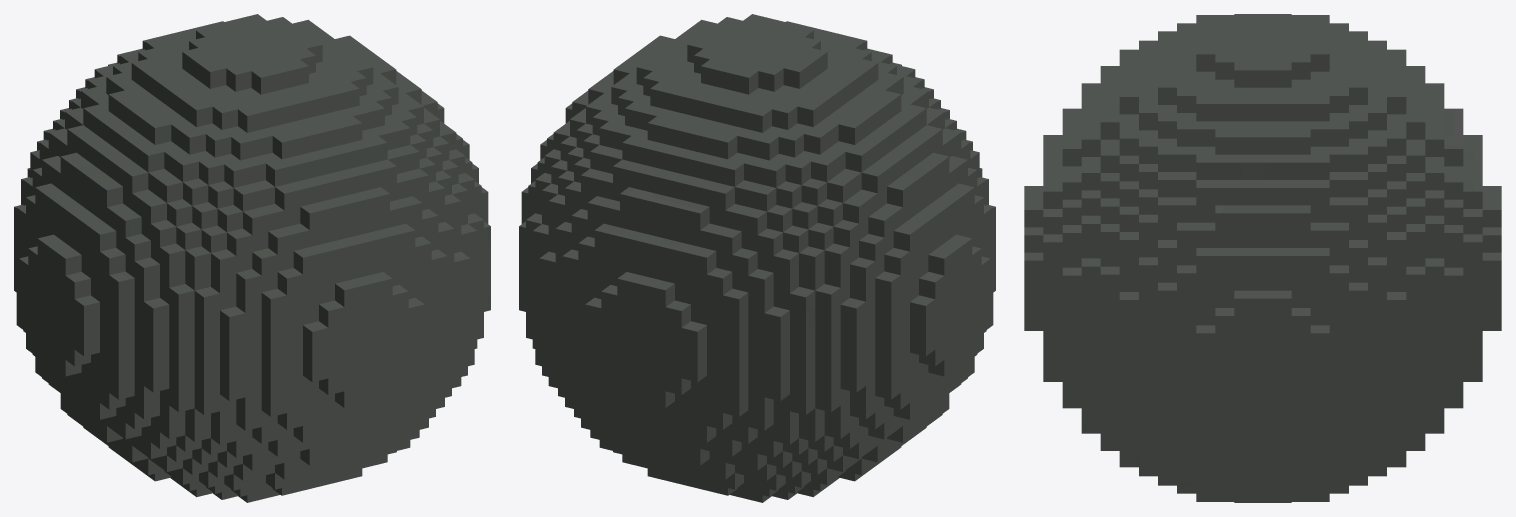
The model's file is time-stop.glb.
3 renders of one model, left to right at view 1: azimuth 30°, elevation 25°; view 2: azimuth 150°, elevation 25°; view 3: azimuth 270°, elevation 25°, orthographic. The views are drawn at different scales.
Visible parts, largest first — view 1: TimeStopBall_Shell_01.001, TimeStopBall_Rim_01.001, TimeStopBall_Rim_03.001; view 2: TimeStopBall_Shell_01.001, TimeStopBall_Rim_01.001, TimeStopBall_Rim_03.001; view 3: TimeStopBall_Shell_01.001, TimeStopBall_Rim_01.001.
Part boxes in pixels (box(x1,y1,x2,y2)): TimeStopBall_Shell_01.001: box(14, 14, 490, 502); TimeStopBall_Rim_01.001: box(14, 223, 490, 384); TimeStopBall_Rim_03.001: box(16, 258, 302, 364); TimeStopBall_Shell_01.001: box(519, 14, 995, 502); TimeStopBall_Rim_01.001: box(519, 223, 995, 384); TimeStopBall_Rim_03.001: box(707, 321, 921, 364); TimeStopBall_Shell_01.001: box(1024, 14, 1501, 502); TimeStopBall_Rim_01.001: box(1024, 252, 1501, 385).
Size of the model in its own units: 2.5 by 2.5 by 2.5.
9 materials, 9 textured.
